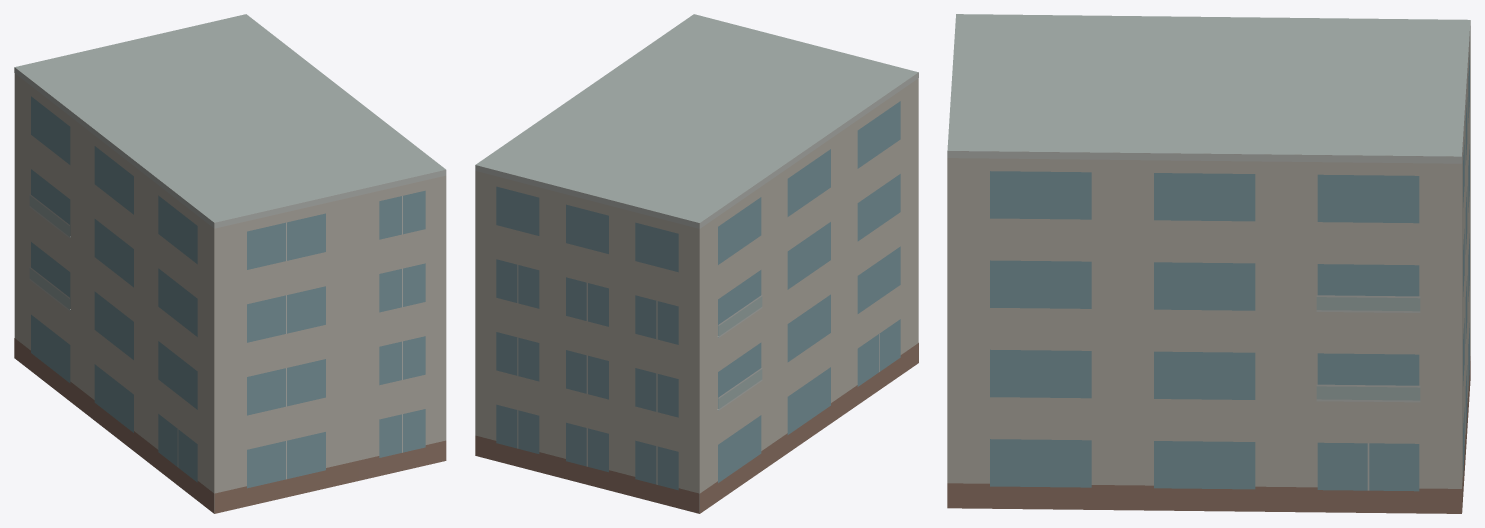
File: residential-37031f68-c9a9-48c5-b3d5-d26afa8b6a14.glb
3 views of the same model, side by side, from view 1: azimuth 30°, elevation 25°; view 2: azimuth 150°, elevation 25°; view 3: azimuth 270°, elevation 25° (orthographic). The views are drawn at different scales.
Visible parts, largest first — view 1: residential-37031f68-c9a9-48c5-b3d5-d26afa8b6a14.tmp; view 2: residential-37031f68-c9a9-48c5-b3d5-d26afa8b6a14.tmp; view 3: residential-37031f68-c9a9-48c5-b3d5-d26afa8b6a14.tmp.
Part boxes in pixels (x1,y1,x2,y2): residential-37031f68-c9a9-48c5-b3d5-d26afa8b6a14.tmp: [14, 14, 446, 513]; residential-37031f68-c9a9-48c5-b3d5-d26afa8b6a14.tmp: [475, 14, 918, 513]; residential-37031f68-c9a9-48c5-b3d5-d26afa8b6a14.tmp: [947, 14, 1470, 513].
Size of the model in its own units: 10.45 by 12.2 by 16.2.
